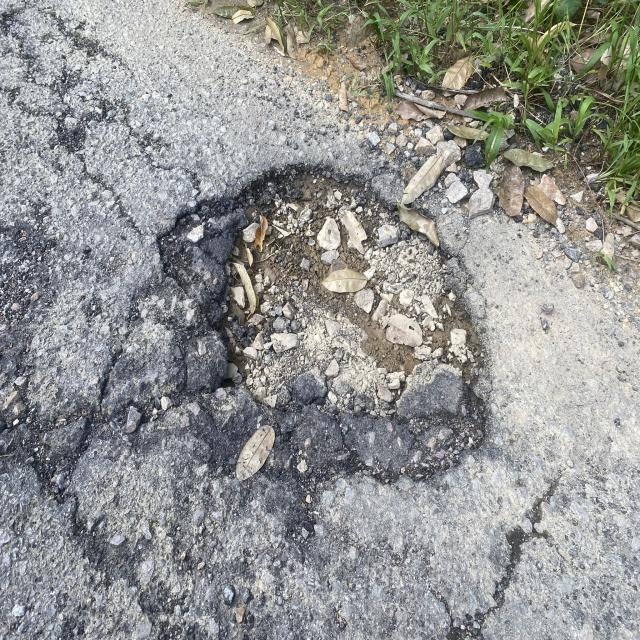pothole: (156, 136, 498, 522)
